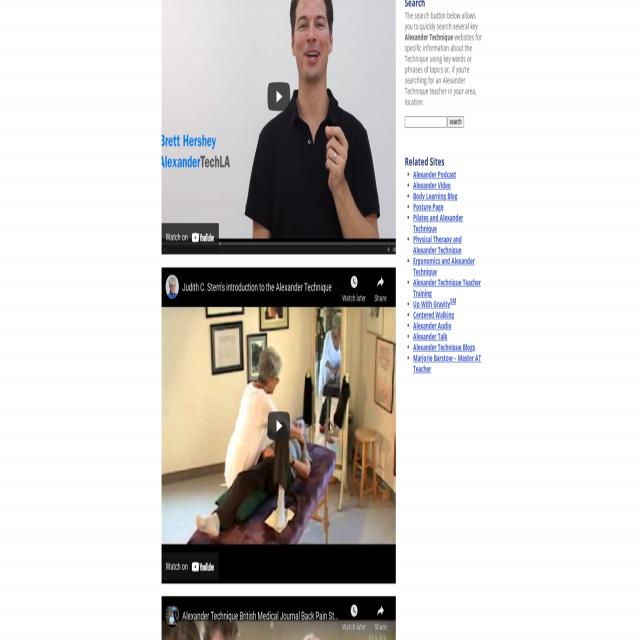button: (161, 267, 396, 584), (160, 0, 396, 255), (162, 596, 396, 640), (340, 268, 367, 308), (340, 600, 368, 634), (372, 271, 391, 309), (268, 411, 290, 441), (372, 602, 389, 636), (165, 274, 179, 299), (166, 604, 179, 628), (447, 115, 464, 127)
field: (404, 116, 447, 128)
